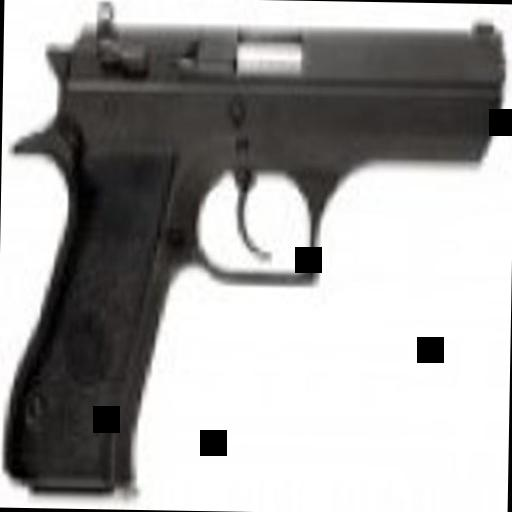Handgun: (10, 0, 499, 502)
